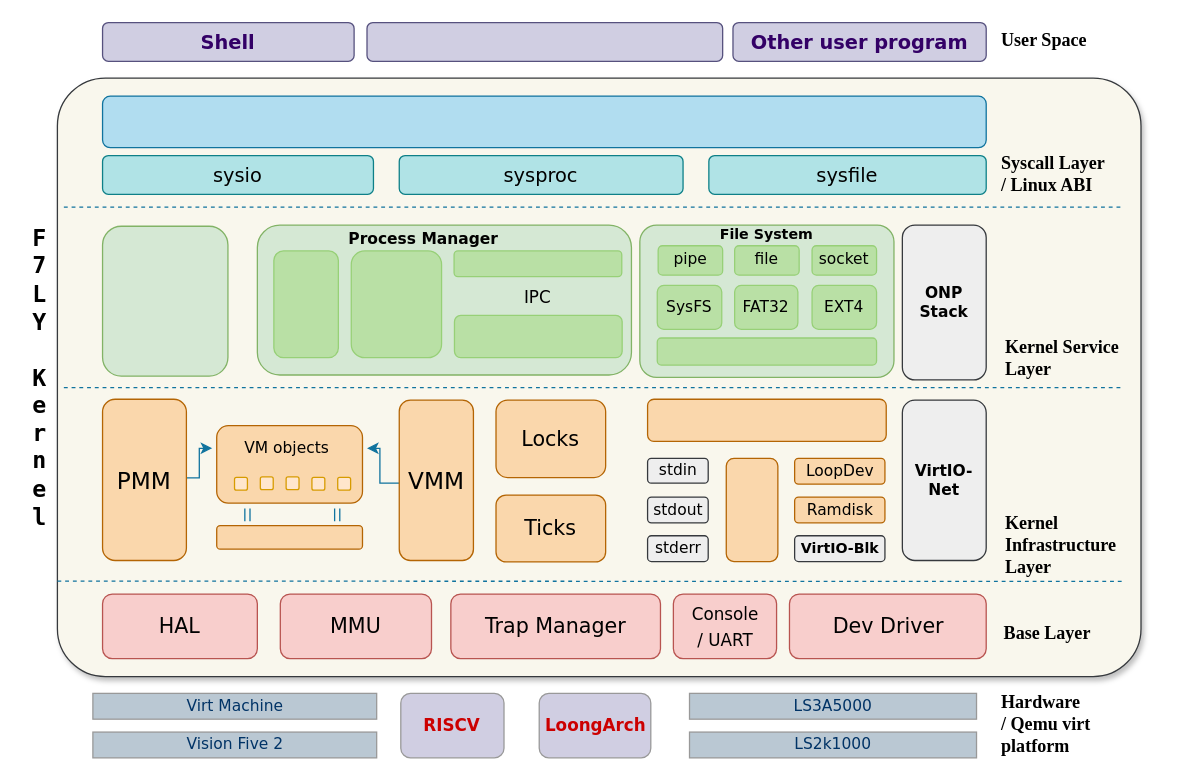
The diagram is 1195 pixels wide and 780 high, and some of its shapes have lost their labels. Each missing label, with the centre of its shape:
"Addr Space" goes at [164,300].
"futex/signal/pipe" goes at [537,336].
"other drivers" goes at [751,509].
"Proc Mem manager" goes at [396,304].
"Scheduler" goes at [537,263].
"SHM" goes at [305,304].
"Syscall handler" goes at [543,121].
"Tests" goes at [544,41].
"Userspace Stream / buffer" goes at [766,419].
"VFS" goes at [766,351].
"VMA space" goes at [288,536].
